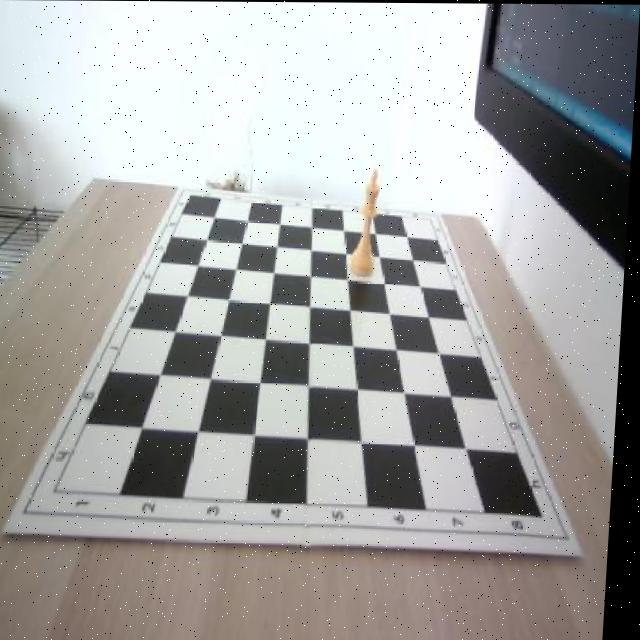white-bishop: (353, 167, 383, 278)
